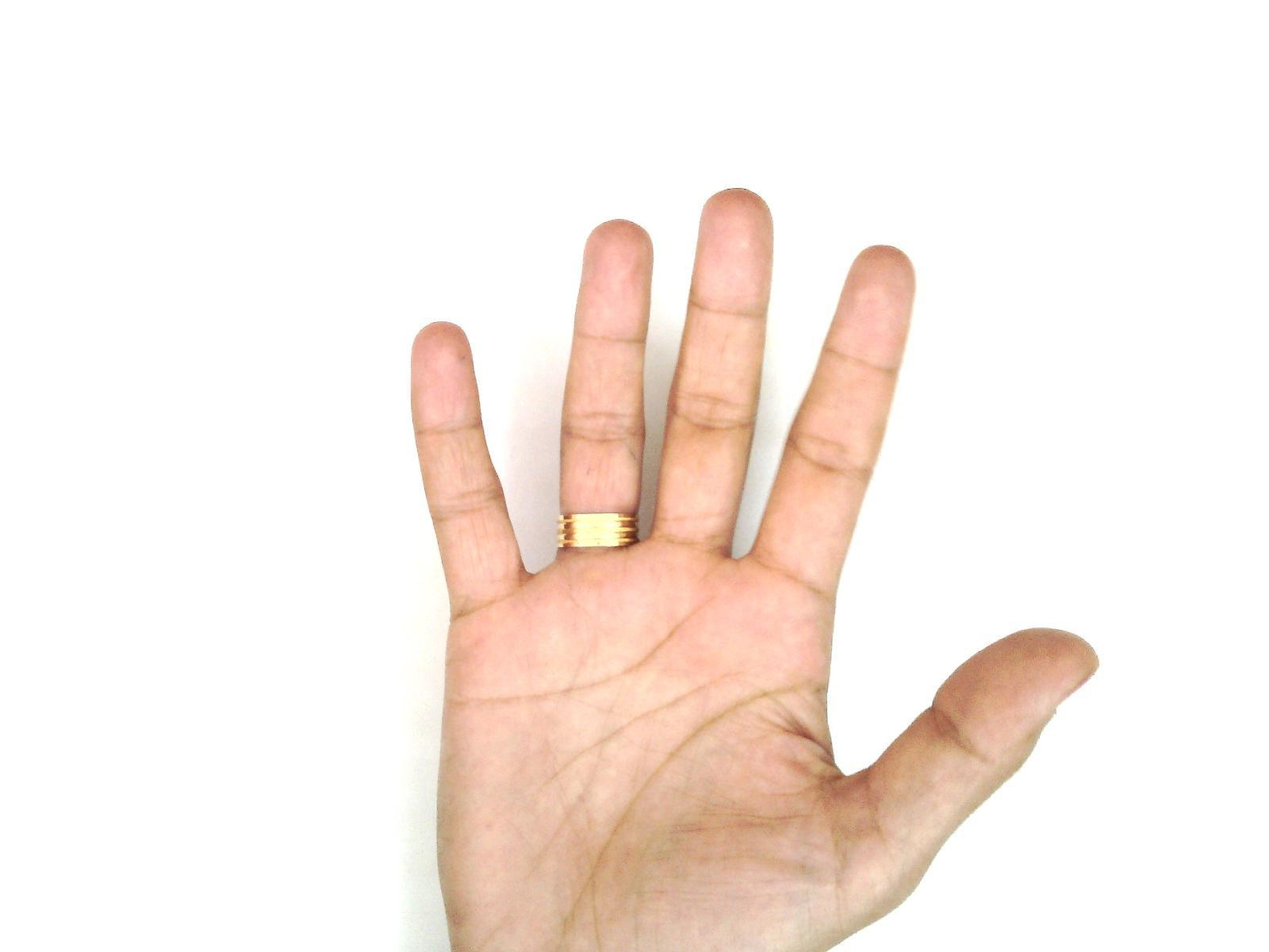open_palm: (405, 186, 1101, 952)
